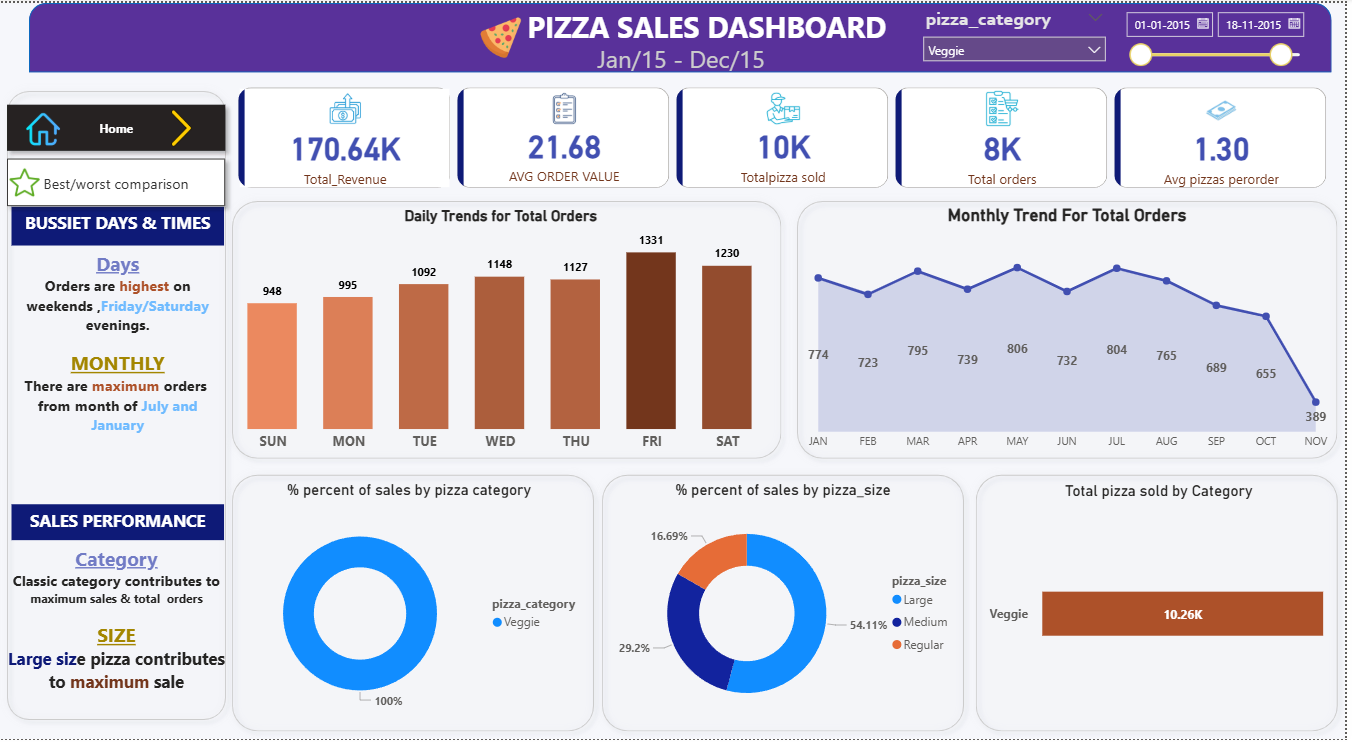

What the dashboard file says about the page in this screenshot:
{"tool":"powerbi","page":{"name":"Home","canvas":[1500,820],"ordinal":0},"visuals":[{"type":"shape","box":[33.2,0,1451.3,77.5],"z":0},{"type":"textbox","box":[300.6,0,975.5,75.6],"z":1000},{"type":"textbox","box":[662,38.7,671.3,77.5],"z":2000},{"type":"image","box":[531.1,1.8,57.2,73.8],"z":3000},{"type":"shape","box":[250,211.7,630,305],"z":4000},{"type":"columnChart","title":"Daily Trends for  Total Orders","fields":{"Category":["pizza_sales.Day_short"],"Y":["pizza_sales.Total orders"]},"box":[238.3,226.7,641.7,281.7],"z":5000},{"type":"shape","box":[250,516.2,421.2,303.8],"z":6000},{"type":"shape","box":[880,211.7,620,305],"z":7000},{"type":"stackedAreaChart","title":"Monthly Trend For Total Orders","fields":{"Y":["pizza_sales.Total orders"],"Category":["pizza_sales.Month_short"]},"box":[886.2,226.2,608.8,281.2],"z":8000},{"type":"donutChart","title":"% percent of sales by pizza category","fields":{"Category":["pizza_sales.pizza_category"],"Y":["pizza_sales.Total_Revenue"]},"box":[250,532.5,412.5,277.5],"z":9000},{"type":"shape","box":[1078.8,516.2,421.2,303.8],"z":10000},{"type":"shape","box":[662.5,516.2,421.2,303.8],"z":11000},{"type":"donutChart","title":"% percent of sales by pizza_size","fields":{"Y":["pizza_sales.Total_Revenue"],"Series":["pizza_sales.pizza_size"]},"box":[667.5,532.5,412.5,277.5],"z":12000},{"type":"funnel","title":"Total pizza sold by Category","fields":{"Y":["pizza_sales.Totalpizza sold"],"Category":["pizza_sales.pizza_category"]},"box":[1098.3,533.3,386.7,275],"z":13000},{"type":"shape","box":[0,89.1,261.8,718.6],"z":14000},{"type":"textbox","box":[13.3,226.7,236.7,43.3],"z":15000},{"type":"textbox","box":[13.3,270,236.7,238.3],"z":16000},{"type":"textbox","box":[0,598.3,261.7,210],"z":17000},{"type":"textbox","box":[13.3,558.3,236.7,40],"z":18000},{"type":"slicer","fields":{"Values":["pizza_sales.pizza_category"]},"box":[1020,0,223.3,75],"z":19000},{"type":"slicer","fields":{"Values":["pizza_sales.order_date"]},"box":[1243.3,0,226.7,75],"z":20000},{"type":"pageNavigator","box":[0,104.5,261.8,69.6],"z":21000},{"type":"image","box":[0,117,98.9,47.4],"z":22000},{"type":"cardVisual","fields":{"Data":["pizza_sales.Total_Revenue","pizza_sales.AVG ORDER VALUE","pizza_sales.Totalpizza sold","pizza_sales.Total orders","pizza_sales.Avg pizzas perorder"]},"box":[261.7,88.6,1222.8,122.4],"z":23000},{"type":"image","box":[156.2,114,94.3,50.7],"z":24000},{"type":"pageNavigator","box":[0,164.3,261.8,71],"z":25000},{"type":"image","box":[7,164.3,43.2,71],"z":25001}]}

Visuals, with their boxes in screenshot pixels (x1, y1, x2, y2), scaled from the page's 1500x820 canvas onto the 1352x742 screenshot:
shape: [30, 0, 1338, 70]
textbox: [271, 0, 1150, 68]
textbox: [597, 35, 1202, 105]
image: [479, 2, 530, 68]
shape: [225, 192, 793, 468]
"Daily Trends for  Total Orders" columnChart: [215, 205, 793, 460]
shape: [225, 467, 605, 741]
shape: [793, 192, 1351, 468]
"Monthly Trend For Total Orders" stackedAreaChart: [799, 205, 1347, 459]
"% percent of sales by pizza category" donutChart: [225, 482, 597, 733]
shape: [972, 467, 1351, 741]
shape: [597, 467, 977, 741]
"% percent of sales by pizza_size" donutChart: [602, 482, 973, 733]
"Total pizza sold by Category" funnel: [990, 483, 1338, 731]
shape: [0, 81, 236, 731]
textbox: [12, 205, 225, 244]
textbox: [12, 244, 225, 460]
textbox: [0, 541, 236, 731]
textbox: [12, 505, 225, 541]
slicer - pizza_sales.pizza_category: [919, 0, 1121, 68]
slicer - pizza_sales.order_date: [1121, 0, 1325, 68]
pageNavigator: [0, 95, 236, 158]
image: [0, 106, 89, 149]
cardVisual - pizza_sales.Total_Revenue x pizza_sales.AVG ORDER VALUE: [236, 80, 1338, 191]
image: [141, 103, 226, 149]
pageNavigator: [0, 149, 236, 213]
image: [6, 149, 45, 213]
